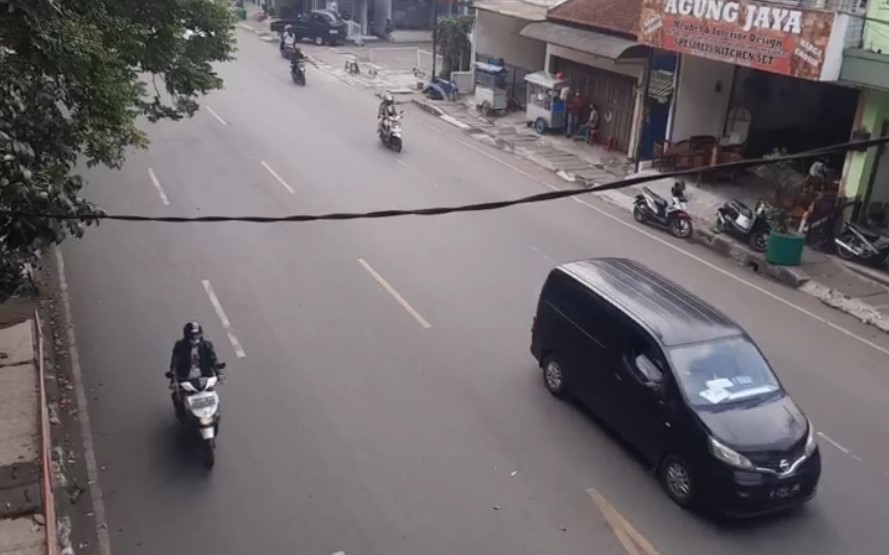mobil: (523, 251, 829, 534)
motor: (160, 323, 234, 476), (376, 97, 406, 154)
